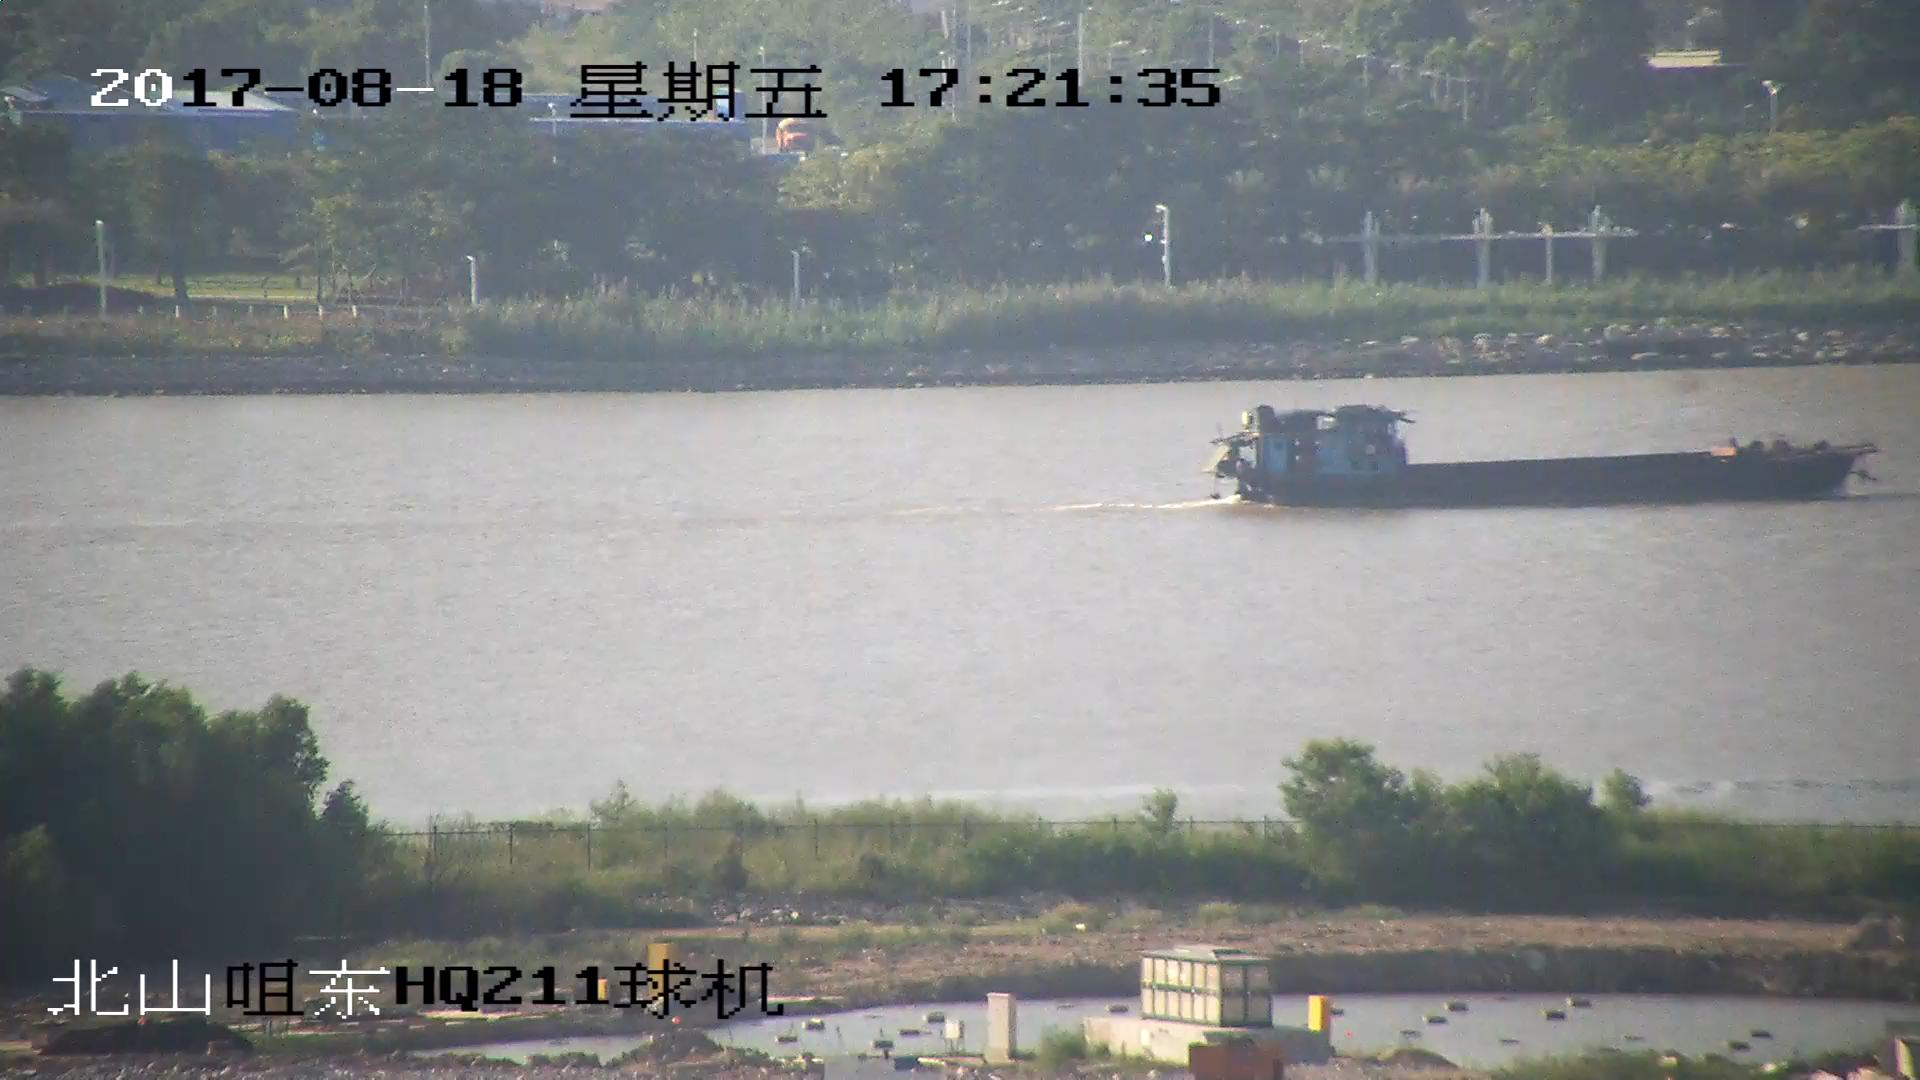bulk cargo carrier: (1214, 408, 1881, 512)
